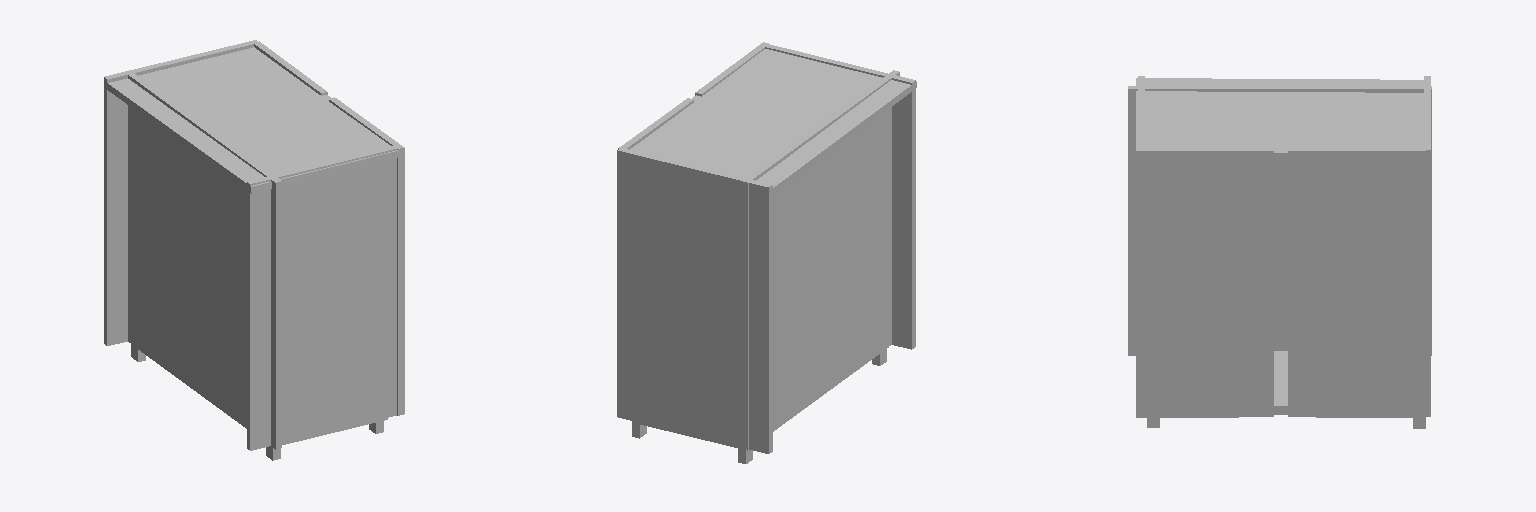
The model's file is wardrobe_simple.obj.
3 views of the same model, side by side, from view 1: azimuth 30°, elevation 25°; view 2: azimuth 150°, elevation 25°; view 3: azimuth 270°, elevation 25° (orthographic).
Visible parts, largest first — view 1: Cube.006_Cube.007, Cube.005_Cube.006, Cube.008_Cube.009, Cube.007_Cube.008, Cube.009_Cube.010, Cube.010_Cube.011; view 2: Cube.007_Cube.008, Cube.005_Cube.006, Cube.008_Cube.009, Cube.006_Cube.007, Cube.010_Cube.011, Cube.009_Cube.010; view 3: Cube.010_Cube.011, Cube.009_Cube.010, Cube.008_Cube.009, Cube.005_Cube.006, Cube.007_Cube.008, Cube_Cube.001.
Boxes of the visible parts, x1,y1,x2,y2 form: Cube.006_Cube.007: [247, 145, 401, 450]; Cube.005_Cube.006: [128, 70, 281, 449]; Cube.008_Cube.009: [104, 47, 402, 193]; Cube.007_Cube.008: [104, 40, 258, 345]; Cube.009_Cube.010: [329, 97, 404, 415]; Cube.010_Cube.011: [254, 41, 327, 95]; Cube.007_Cube.008: [617, 148, 772, 453]; Cube.005_Cube.006: [742, 70, 899, 449]; Cube.008_Cube.009: [630, 49, 916, 194]; Cube.006_Cube.007: [761, 43, 915, 349]; Cube.010_Cube.011: [618, 98, 693, 149]; Cube.009_Cube.010: [695, 42, 768, 96]; Cube.010_Cube.011: [1288, 147, 1425, 417]; Cube.009_Cube.010: [1136, 147, 1273, 417]; Cube.008_Cube.009: [1136, 78, 1429, 159]; Cube.005_Cube.006: [1128, 86, 1431, 355]; Cube.007_Cube.008: [1423, 76, 1430, 416]; Cube_Cube.001: [1274, 351, 1287, 414].
Size of the model in its own units: 3.24 by 5.76 by 5.56.